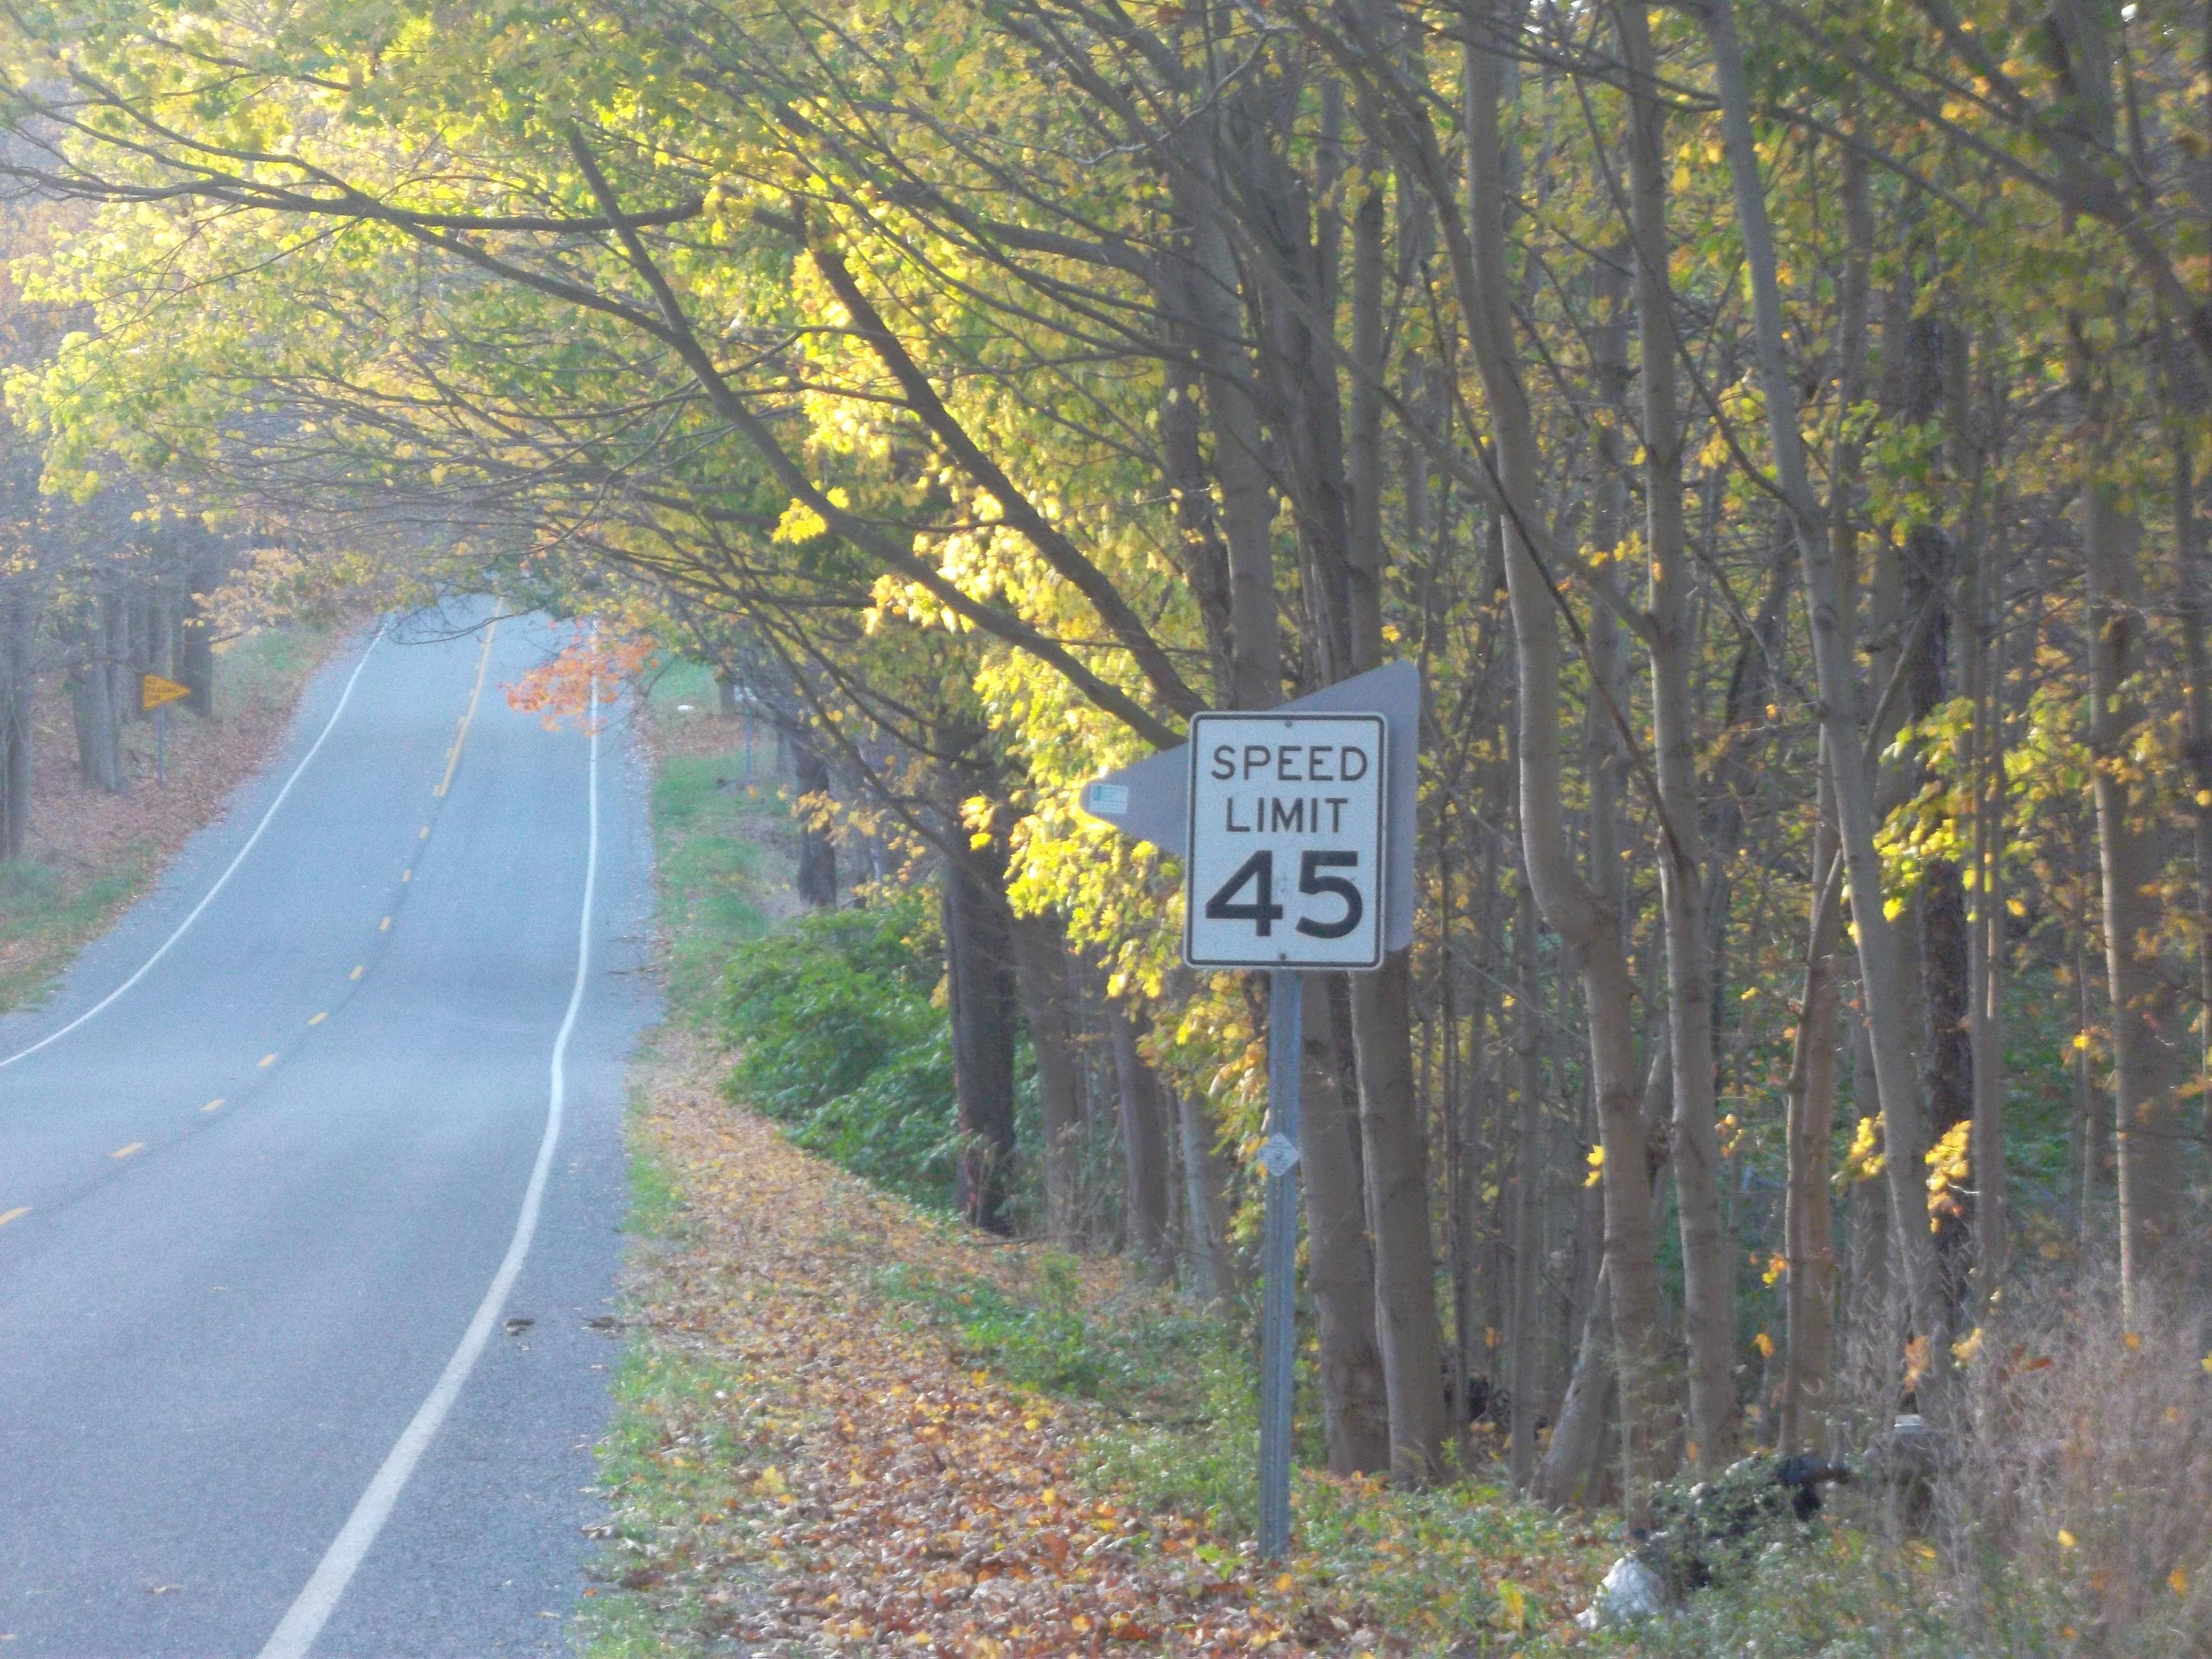regulatory: (1177, 704, 1399, 976)
